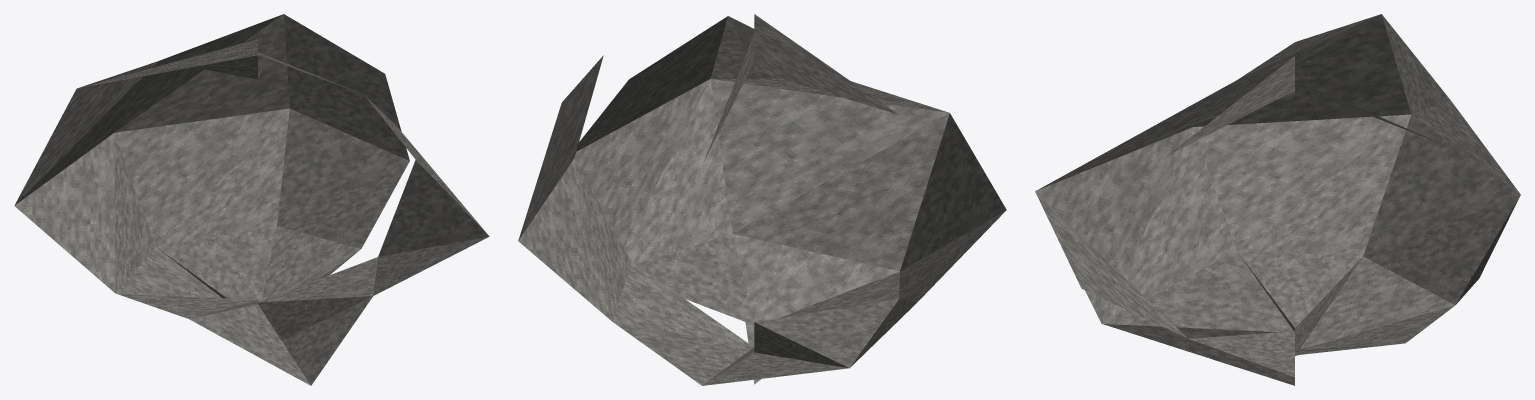
File: rock_01.gltf
3 views of the same model, side by side, from view 1: azimuth 30°, elevation 25°; view 2: azimuth 150°, elevation 25°; view 3: azimuth 270°, elevation 25° (orthographic). The views are drawn at different scales.
Parts seen in each view (by area): view 1: rock_01; view 2: rock_01; view 3: rock_01.
Part boxes in pixels (x1,y1,x2,y2): rock_01: [14, 14, 489, 385]; rock_01: [518, 14, 1006, 385]; rock_01: [1035, 14, 1520, 385].
Size of the model in its own units: 0.7635 by 0.6563 by 0.8404.
1 material, 1 textured.
